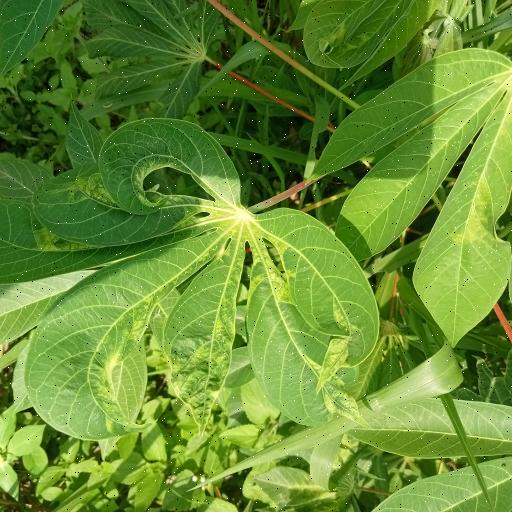Cassava_Healthy: (0, 115, 380, 441), (326, 48, 512, 342)
